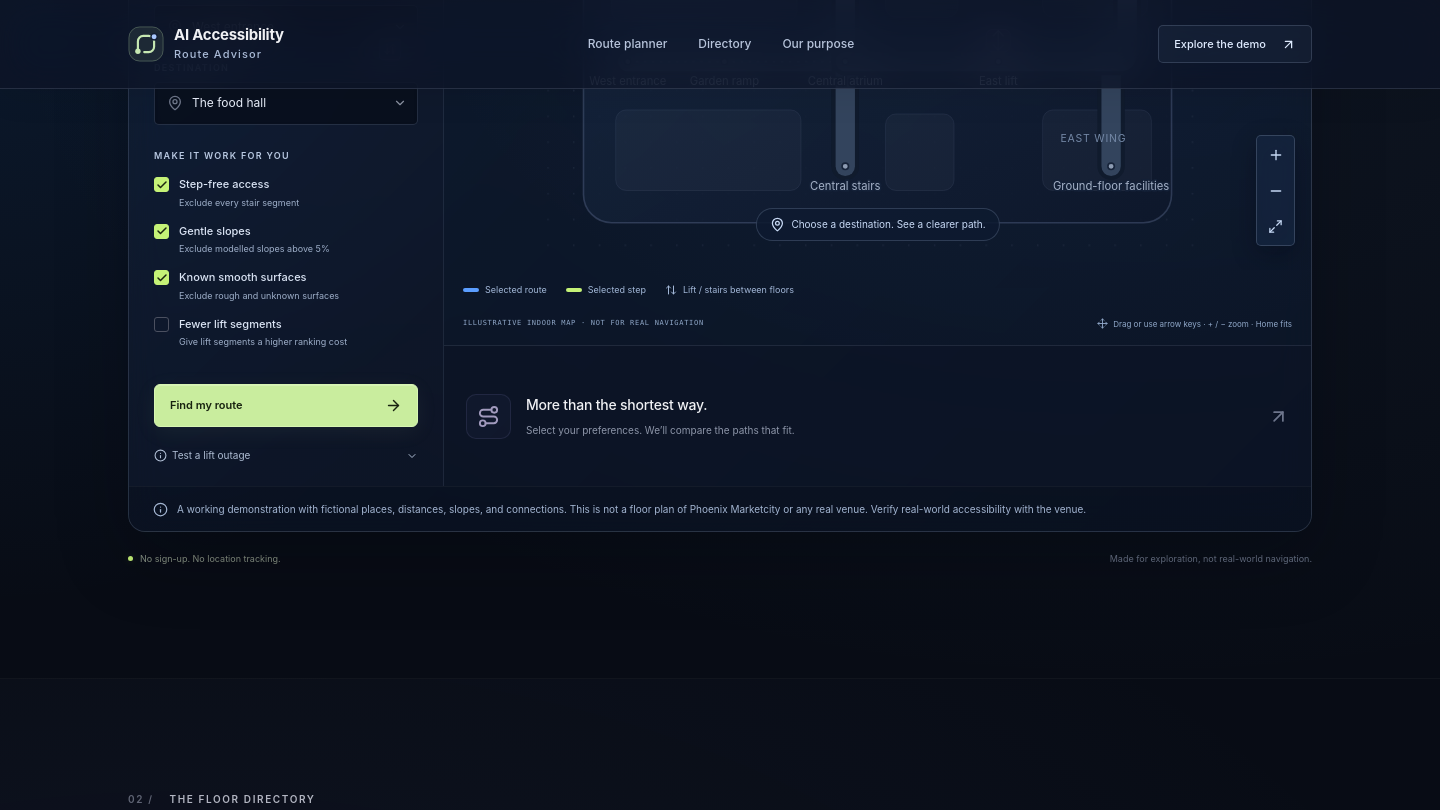
Test: the complete project experience in a DOM test environment › reports an unavailable step-free path when the sample lift is disabled
The image size is (1440, 810).
(page scrolled)
Click the heading "Test a lift outage" at (211, 455), box x1=154 y1=449 x2=418 y2=462
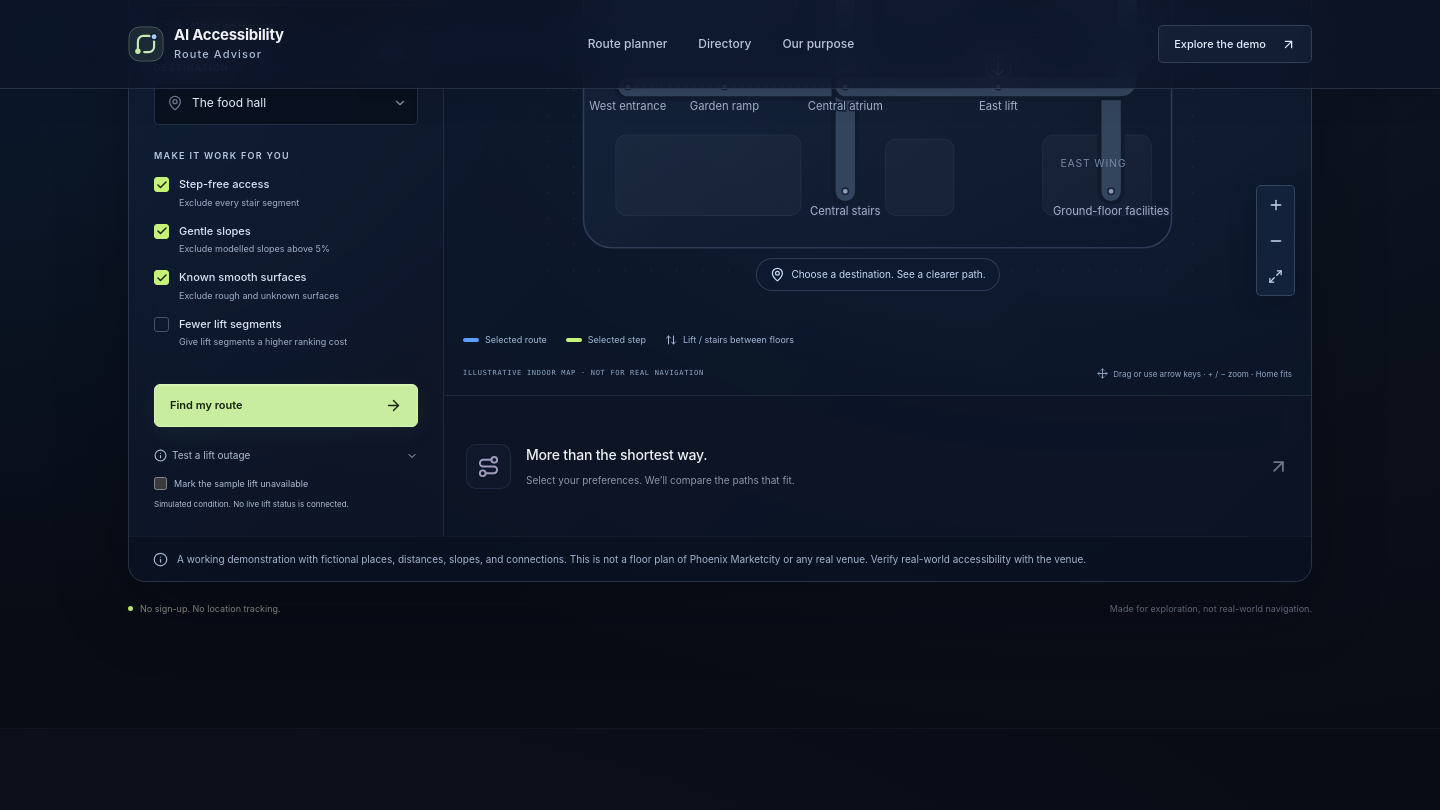
Click the checkbox labelled "Mark the sample lift unavailable" at (160, 484), box x1=154 y1=477 x2=167 y2=490
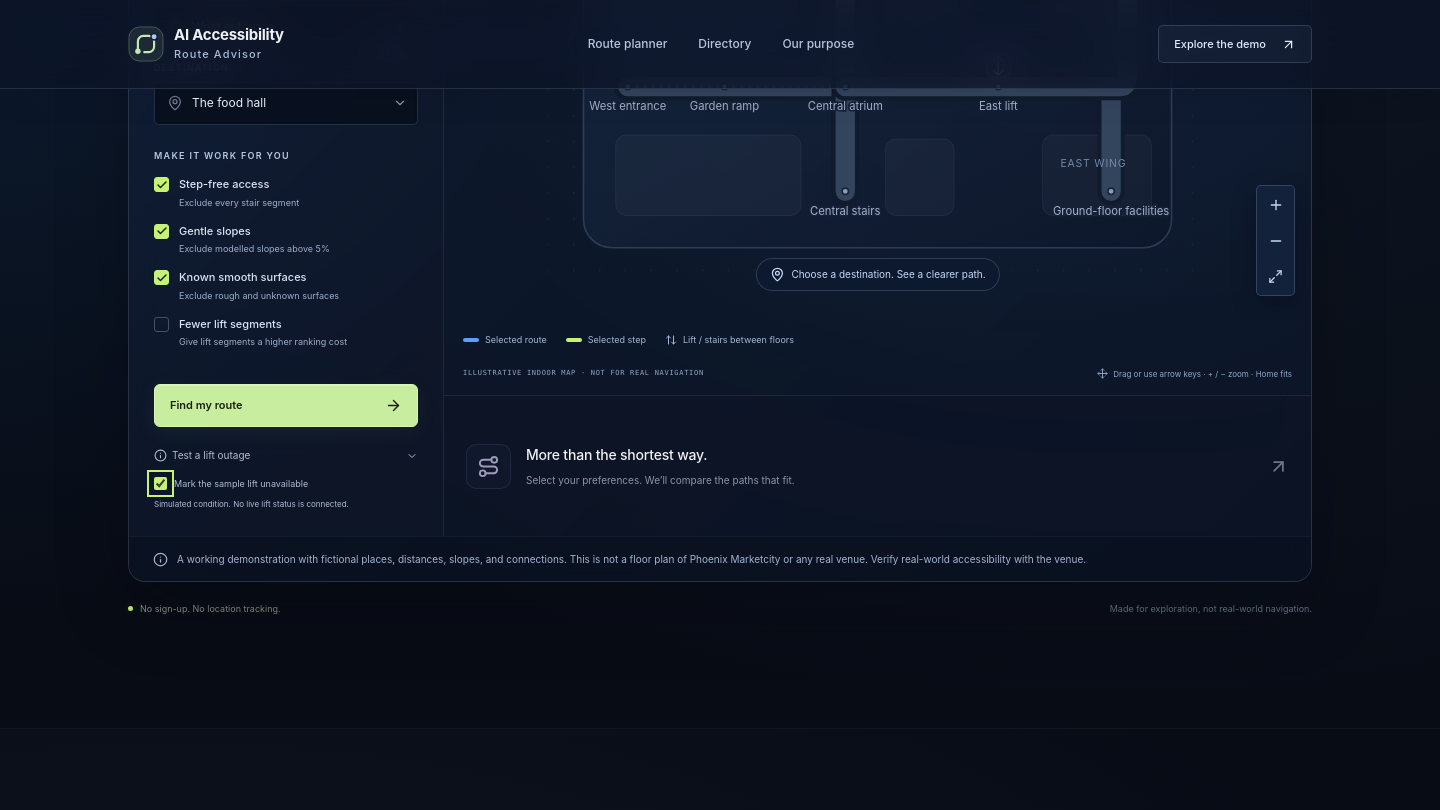
Click the button "Find my route" at (206, 405), box x1=154 y1=384 x2=418 y2=427
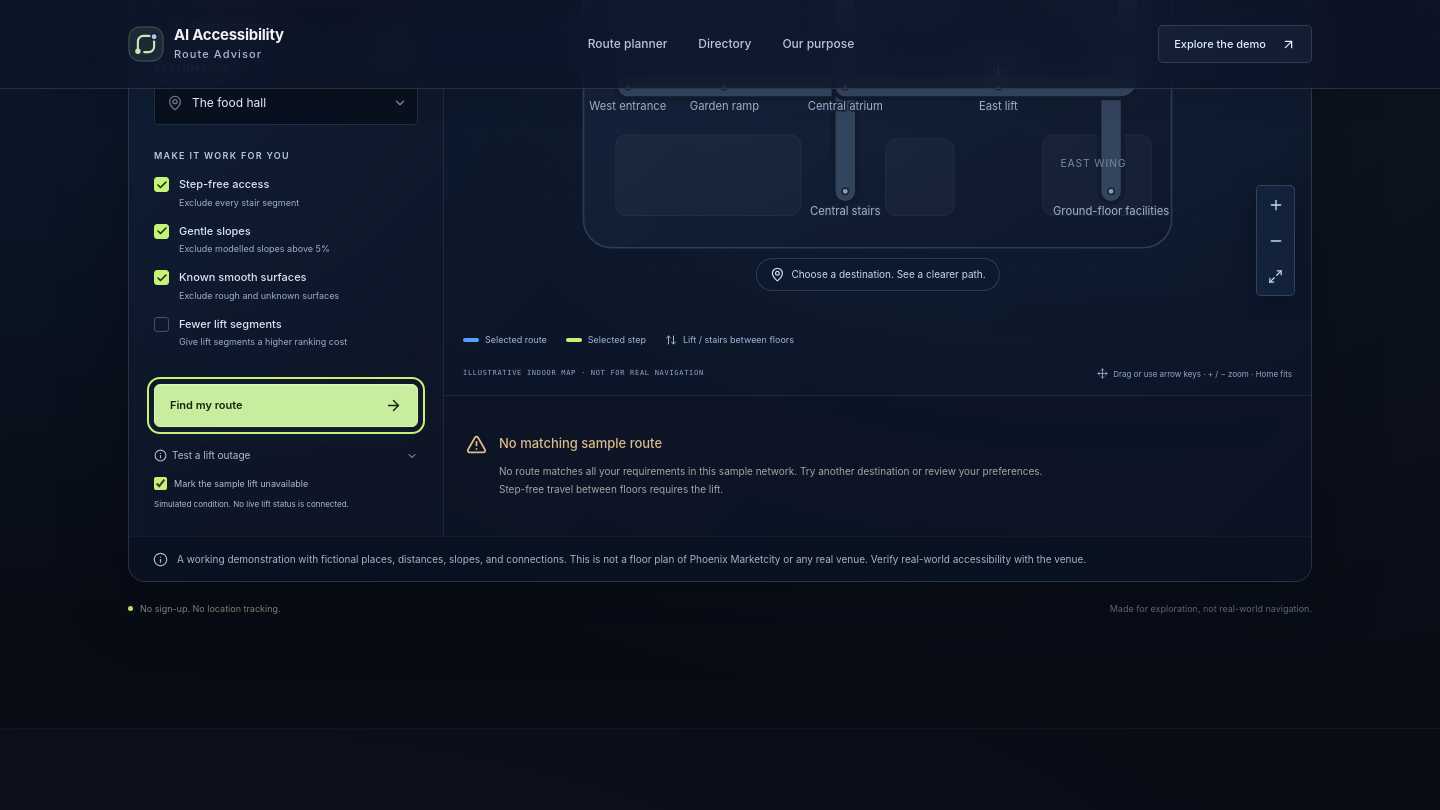
Expected: the heading "No matching sample route" is shown, x1=499 y1=435 x2=662 y2=451
